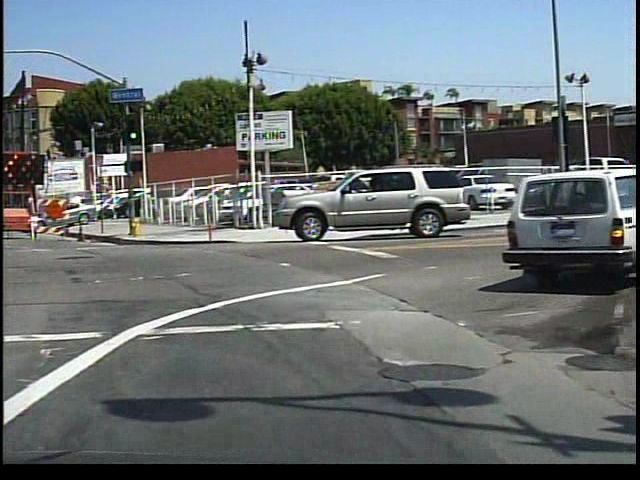person: (572, 162, 592, 205)
